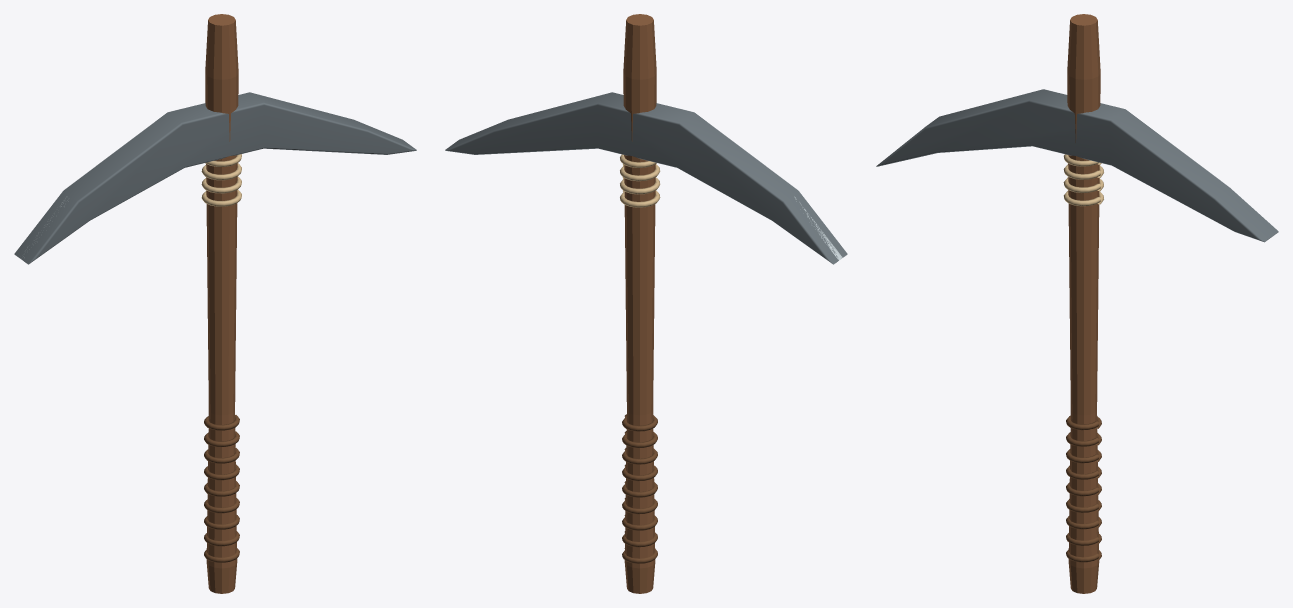
The model's file is HanForgedPick.fbx.
3 views of the same model, side by side, from view 1: azimuth 30°, elevation 25°; view 2: azimuth 150°, elevation 25°; view 3: azimuth 330°, elevation 25° (orthographic).
Parts seen in each view (by area): view 1: HanForgedPick; view 2: HanForgedPick; view 3: HanForgedPick.
Boxes of the visible parts, x1,y1,x2,y2 form: HanForgedPick: (14, 14, 416, 593); HanForgedPick: (445, 14, 847, 593); HanForgedPick: (876, 14, 1278, 593).
Size of the model in its own units: 61.53 by 86 by 5.6.
